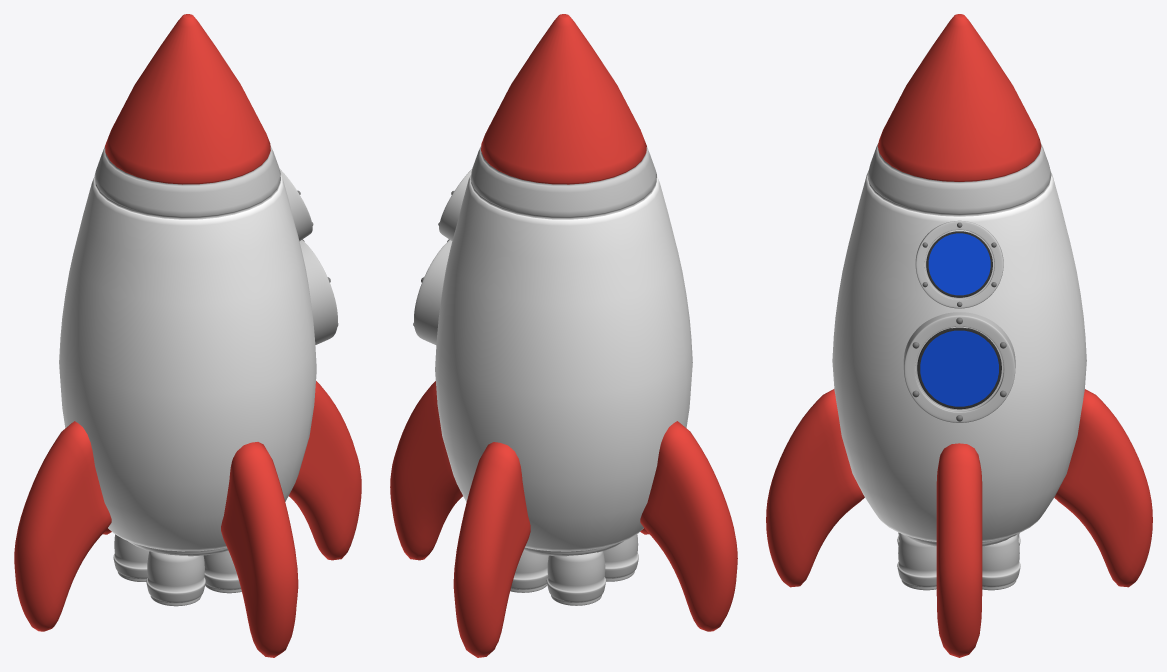
File: new-rocket.fbx
The picture shows the model from 3 angles, left to right: view 1: azimuth 30°, elevation 25°; view 2: azimuth 150°, elevation 25°; view 3: azimuth 270°, elevation 25°; orthographic projection.
Parts seen in each view (by area): view 1: Cube.013; view 2: Cube.013; view 3: Cube.013.
Part boxes in pixels (bbox=[...]): Cube.013: bbox=[14, 14, 361, 657]; Cube.013: bbox=[390, 14, 737, 657]; Cube.013: bbox=[766, 14, 1152, 657].
Size of the model in its own units: 10.54 by 17.15 by 10.54.
